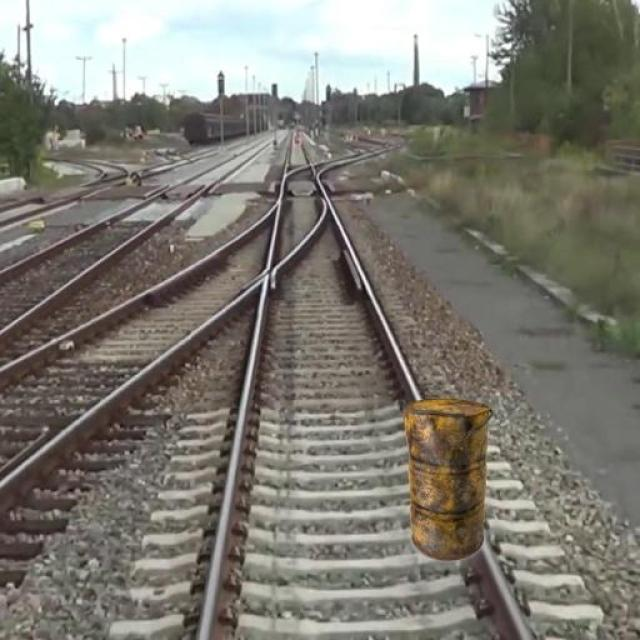Other_objects: (399, 397, 501, 566)
